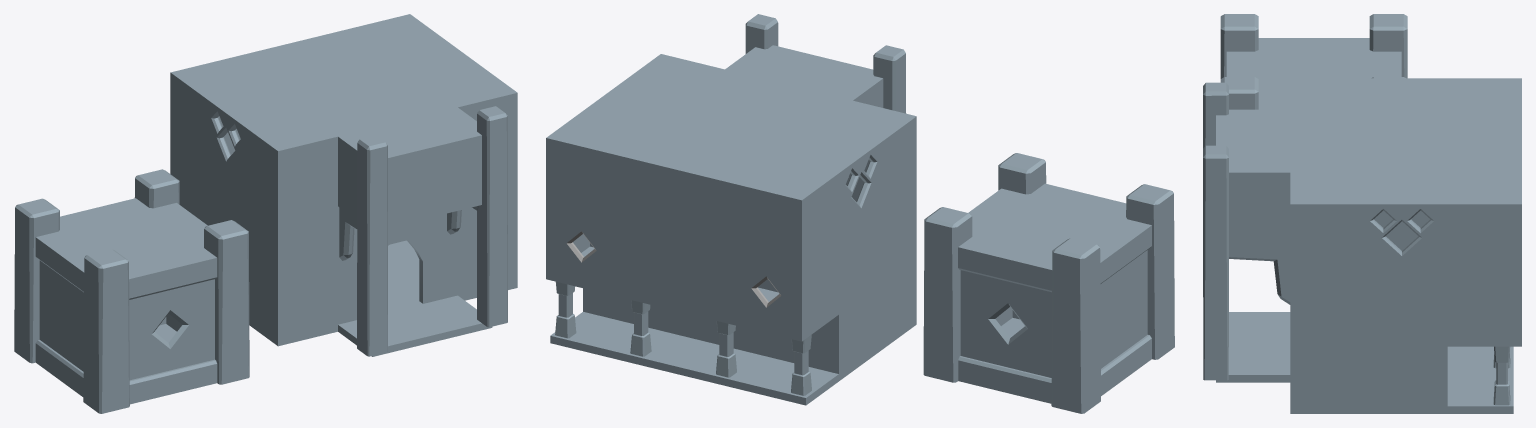
File: BURIRUDINGS_TESTUH.fbx
3 views of the same model, side by side, from view 1: azimuth 30°, elevation 25°; view 2: azimuth 150°, elevation 25°; view 3: azimuth 270°, elevation 25° (orthographic). The views are drawn at different scales.
Visible parts, largest first — view 1: Floor_1x189, Pillar_Large46, Floor_1x188, Floor_2x15, Pillar_Large39, Wall_RightAngle13, Pillar_Large44, Wall_RightAngle12, Pillar_Large47, Wall_RightAngle8, Wall_Doorway_2x3, Wall_Large_Window2 (+30 smaller); view 2: Floor_1x189, Pillar_Large45, Floor_1x188, Floor_2x15, Wall_RightAngle6, Wall_RightAngle_Window2, Pillar_Large29, Wall_Large_Window4, Pillar_Large46, Wall_Large158, Wall_RightAngle7, Wall92 (+38 smaller); view 3: Floor_1x189, Wall_Large161, Floor_1x188, Pillar_Large44, Floor_2x15, Wall_RightAngle11, Wall_RightAngle7, Wall_RightAngle10, Wall_RightAngle9, Wall_RightAngle_Window1, Wall_Window_Triple5, Wall_RightAngle14 (+23 smaller).
Part boxes in pixels (x1,y1,x2,y2): Floor_1x189: (216, 44, 506, 146); Pillar_Large46: (83, 249, 129, 413); Floor_1x188: (181, 18, 437, 95); Floor_2x15: (46, 202, 210, 273); Pillar_Large39: (357, 135, 387, 356); Wall_RightAngle13: (243, 124, 337, 213); Pillar_Large44: (477, 106, 507, 327); Wall_RightAngle12: (243, 189, 337, 276); Pillar_Large47: (204, 220, 249, 384); Wall_RightAngle8: (249, 255, 337, 339); Wall_Doorway_2x3: (338, 206, 457, 324); Wall_Large_Window2: (137, 257, 200, 377); Floor_1x189: (594, 58, 905, 168); Pillar_Large45: (1051, 238, 1100, 413); Floor_1x188: (558, 112, 831, 195); Floor_2x15: (965, 188, 1140, 263); Wall_RightAngle6: (738, 171, 838, 267); Wall_RightAngle_Window2: (738, 240, 838, 333); Pillar_Large29: (923, 207, 972, 382); Wall_Large_Window4: (976, 246, 1043, 374); Pillar_Large46: (1126, 184, 1174, 359); Wall_Large158: (843, 210, 879, 370); Wall_RightAngle7: (546, 111, 613, 220); Wall92: (674, 166, 741, 251); Floor_1x189: (1298, 82, 1439, 200); Wall_Large161: (1365, 271, 1439, 406); Floor_1x188: (1447, 82, 1513, 200); Pillar_Large44: (1203, 145, 1228, 380); Floor_2x15: (1239, 43, 1388, 106); Wall_RightAngle11: (1290, 172, 1364, 271); Wall_RightAngle7: (1447, 172, 1521, 271); Wall_RightAngle10: (1290, 271, 1364, 338); Wall_RightAngle9: (1290, 339, 1364, 406); Wall_RightAngle_Window1: (1447, 271, 1521, 338); Wall_Window_Triple5: (1365, 200, 1439, 271); Wall_RightAngle14: (1216, 141, 1290, 239).
Bounding box in the file's own units: 30.04 × 13.79 × 17.14.
